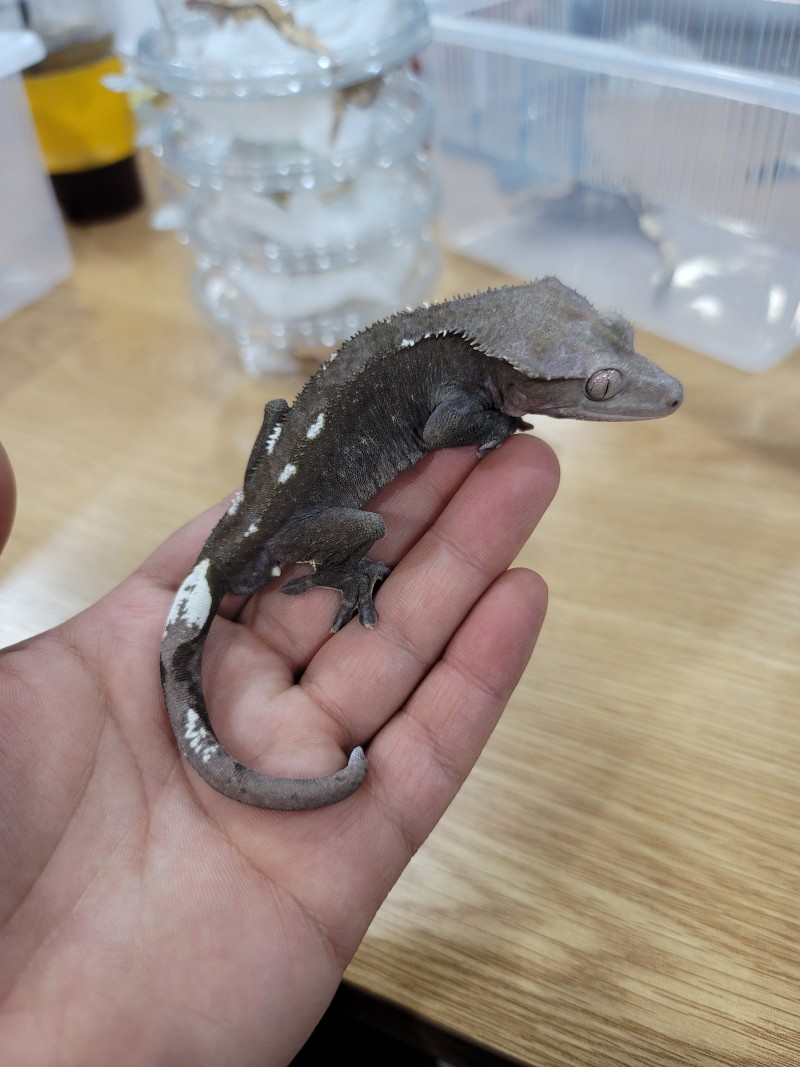analyzer_lateral: (223, 338, 493, 584)
